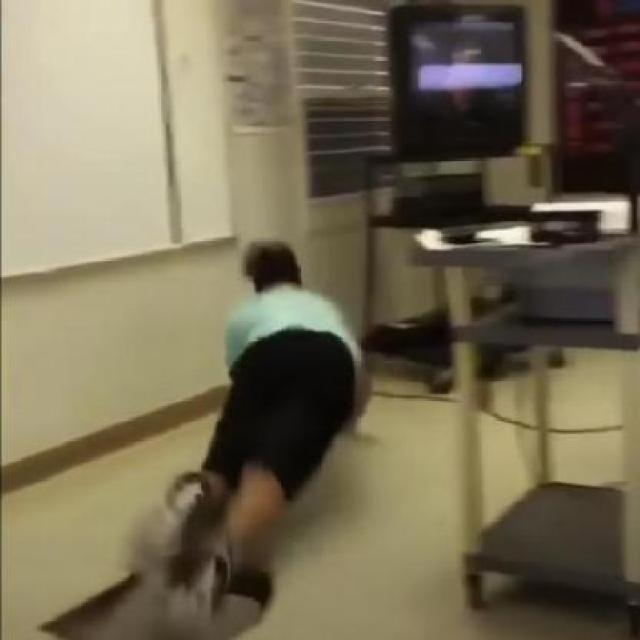fall: (134, 243, 368, 612)
